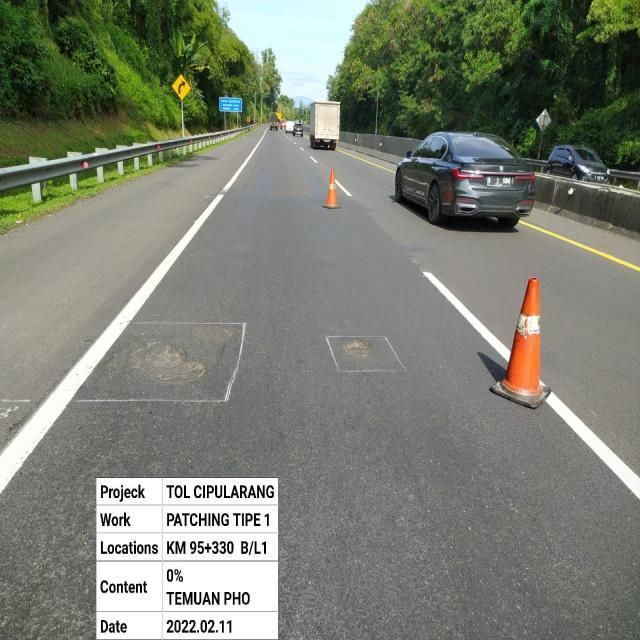Buraco: (121, 338, 212, 388), (338, 336, 376, 362)
